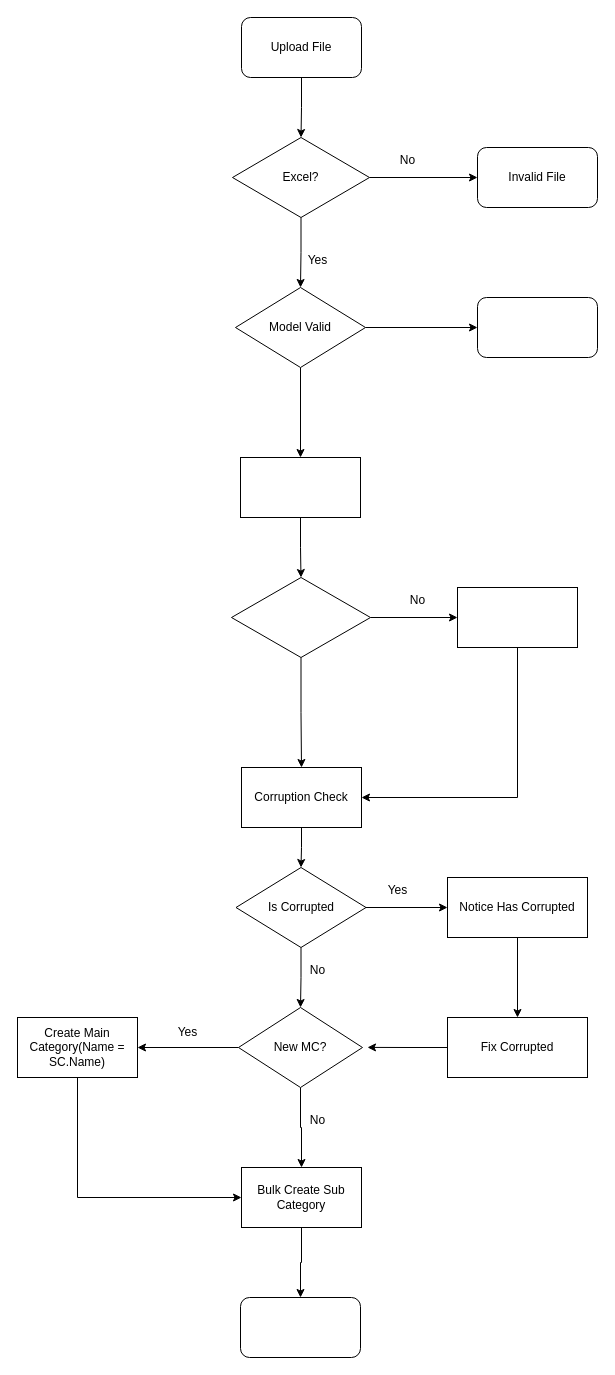
Image size: 615x1375. Some labels were removed from this diagram. Here are the shapes that lost their labels. From the top down, the box of each, then its label:
(476, 296, 598, 358): Invalid Schema
(240, 456, 360, 518): Map Main Category
(230, 576, 370, 658): Found Main Category
(456, 586, 578, 648): List To Create New MC
(240, 1296, 360, 1358): return true
